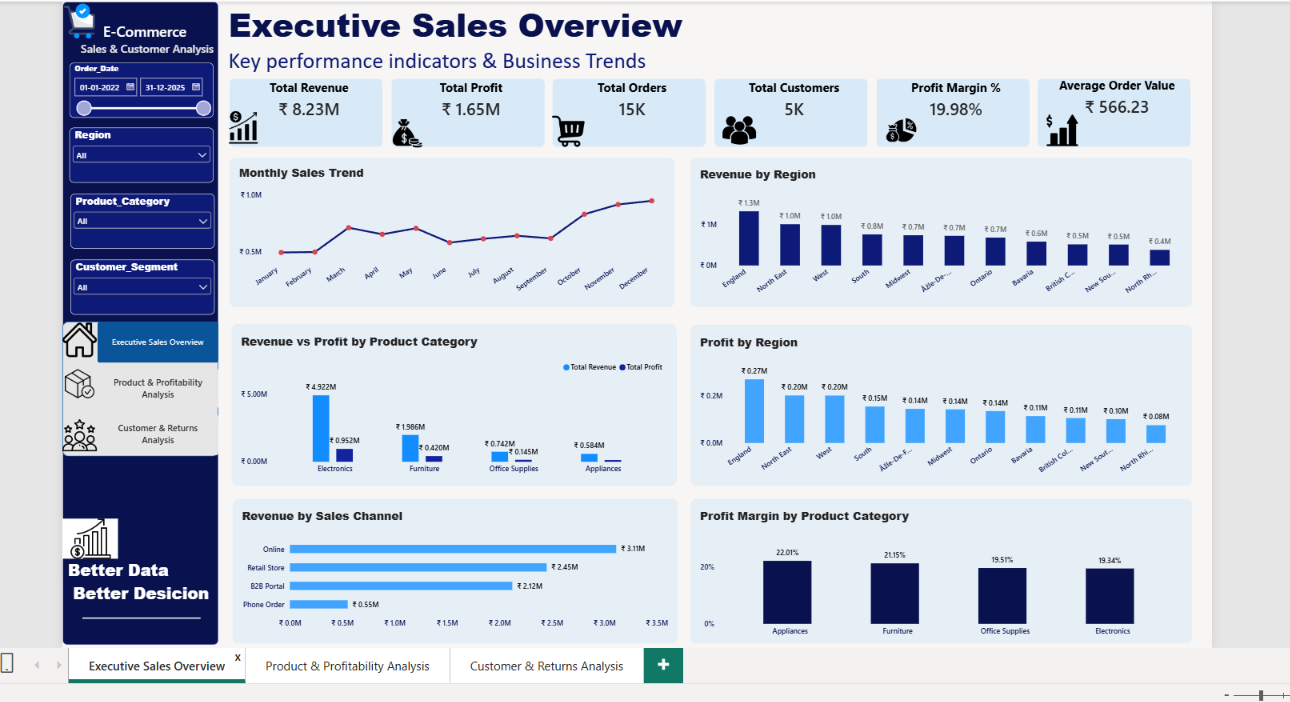

What the dashboard file says about the page in this screenshot:
{"tool":"powerbi","page":{"name":"Executive Sales Overview","canvas":[1920,1080],"ordinal":0},"visuals":[{"type":"shape","box":[0,0,260.6,1074],"z":0},{"type":"textbox","box":[277.9,0,769.8,127.6],"z":1000},{"type":"textbox","box":[0,32.6,260.6,81.4],"z":2000},{"type":"cardVisual","fields":{"Data":["Cleaned CSV.Total Revenue"]},"box":[278.7,128.5,256,114],"z":3000},{"type":"cardVisual","fields":{"Data":["Cleaned CSV.Total Profit"]},"box":[548.7,128.5,256,114],"z":4000},{"type":"cardVisual","fields":{"Data":["Cleaned CSV.Total Orders"]},"box":[818.7,128.5,256,114],"z":5000},{"type":"cardVisual","fields":{"Data":["Cleaned CSV.Total Customers"]},"box":[1088.7,128.5,256,114],"z":6000},{"type":"cardVisual","fields":{"Data":["Cleaned CSV.Profit Margin %"]},"box":[1358.7,128.5,256,114],"z":7000},{"type":"cardVisual","fields":{"Data":["Cleaned CSV.Average Order Value"]},"box":[1628.7,128.5,257,114],"z":8000},{"type":"image","box":[260.6,182.8,83.2,56.1],"z":9000},{"type":"image","box":[533.8,191.8,83.2,56.1],"z":10000},{"type":"image","box":[803.5,188.2,83,56],"z":11000},{"type":"image","box":[1089.4,186.4,83,56],"z":12000},{"type":"image","box":[1628.7,186.4,83,56],"z":13000},{"type":"image","box":[1359.1,186.4,83.2,56.1],"z":14000},{"type":"image","box":[0,1.8,57.9,61.5],"z":15000},{"type":"shape","box":[278.7,260.6,743.8,249.7],"z":16000},{"type":"lineChart","title":"Monthly Sales Trend","fields":{"Y":["Cleaned CSV.Total Revenue"],"Category":["Cleaned CSV.Order_Date.Variation.Date Hierarchy.Month"]},"box":[278.7,257,743.8,249.7],"z":17000},{"type":"shape","box":[1047.8,260.6,837.9,249.7],"z":18000},{"type":"clusteredColumnChart","title":" Revenue by Region","fields":{"Category":["Cleaned CSV.Region"],"Y":["Cleaned CSV.Total Revenue"]},"box":[1047.8,260.6,845.1,249.7],"z":19000},{"type":"shape","box":[282.3,537.5,743.8,271.4],"z":20000},{"type":"shape","box":[1047.8,539.3,837.9,269.6],"z":21000},{"type":"clusteredColumnChart","title":"Revenue vs Profit by Product Category","fields":{"Category":["Cleaned CSV.Product_Category"],"Y":["Cleaned CSV.Total Revenue","Cleaned CSV.Total Profit"]},"box":[282.3,539.3,740.2,269.6],"z":22000},{"type":"columnChart","title":" Profit by Region","fields":{"Y":["Cleaned CSV.Total Profit"],"Category":["Cleaned CSV.Region"]},"box":[1047.8,541.1,837.9,269.6],"z":23000},{"type":"shape","box":[284.1,830.6,743.8,242.5],"z":24000},{"type":"clusteredBarChart","title":"Revenue by Sales Channel","fields":{"Category":["Cleaned CSV.Sales_Channel"],"Y":["Cleaned CSV.Total Revenue"]},"box":[284.1,830.6,743.8,237.1],"z":25000},{"type":"shape","box":[1047.8,830.6,837.9,242.5],"z":26000},{"type":"columnChart","title":"Profit Margin by Product Category","fields":{"Category":["Cleaned CSV.Product_Category"],"Y":["Cleaned CSV.Profit Margin %"]},"box":[1047.8,830.6,837.9,249.7],"z":27000},{"type":"slicer","fields":{"Values":["Cleaned CSV.Order_Date"]},"box":[10.9,101.3,240.7,92.3],"z":28000},{"type":"slicer","fields":{"Values":["Cleaned CSV.Region"]},"box":[10.9,209.9,240.7,92.3],"z":29000},{"type":"slicer","fields":{"Values":["Cleaned CSV.Product_Category"]},"box":[12.7,320.3,240.7,92.3],"z":30000},{"type":"slicer","fields":{"Values":["Cleaned CSV.Customer_Segment"]},"box":[12.7,430.7,240.7,92.3],"z":31000},{"type":"shape","box":[0,534.1,260.5,225.2],"z":32000},{"type":"image","box":[0.7,536.7,57.7,57.7],"z":33000},{"type":"image","box":[0.7,611.1,57.7,54],"z":34000},{"type":"image","box":[0,690.4,57.7,68.9],"z":35000},{"type":"pageNavigator","box":[57.7,534.1,202.8,225.2],"z":36000},{"type":"textbox","box":[0,930.4,260.5,78.2],"z":37000},{"type":"shape","box":[0,863.4,93,67],"z":38000},{"type":"image","box":[0,863.4,94.9,67],"z":39000},{"type":"shape","box":[33.5,1004.8,197.2,48.4],"z":39001}]}

Visuals, with their boxes on the page's 1920x1080 design canvas (x1, y1, x2, y2). These are canvas units, not pixel positions in the 1290x702 screenshot, which may show the page scaled, cropped or inside an application window:
shape: (left=0, top=0, right=261, bottom=1074)
textbox: (left=278, top=0, right=1048, bottom=128)
textbox: (left=0, top=33, right=261, bottom=114)
cardVisual - Cleaned CSV.Total Revenue: (left=279, top=128, right=535, bottom=242)
cardVisual - Cleaned CSV.Total Profit: (left=549, top=128, right=805, bottom=242)
cardVisual - Cleaned CSV.Total Orders: (left=819, top=128, right=1075, bottom=242)
cardVisual - Cleaned CSV.Total Customers: (left=1089, top=128, right=1345, bottom=242)
cardVisual - Cleaned CSV.Profit Margin %: (left=1359, top=128, right=1615, bottom=242)
cardVisual - Cleaned CSV.Average Order Value: (left=1629, top=128, right=1886, bottom=242)
image: (left=261, top=183, right=344, bottom=239)
image: (left=534, top=192, right=617, bottom=248)
image: (left=804, top=188, right=886, bottom=244)
image: (left=1089, top=186, right=1172, bottom=242)
image: (left=1629, top=186, right=1712, bottom=242)
image: (left=1359, top=186, right=1442, bottom=242)
image: (left=0, top=2, right=58, bottom=63)
shape: (left=279, top=261, right=1022, bottom=510)
"Monthly Sales Trend" lineChart: (left=279, top=257, right=1022, bottom=507)
shape: (left=1048, top=261, right=1886, bottom=510)
" Revenue by Region" clusteredColumnChart: (left=1048, top=261, right=1893, bottom=510)
shape: (left=282, top=538, right=1026, bottom=809)
shape: (left=1048, top=539, right=1886, bottom=809)
"Revenue vs Profit by Product Category" clusteredColumnChart: (left=282, top=539, right=1022, bottom=809)
" Profit by Region" columnChart: (left=1048, top=541, right=1886, bottom=811)
shape: (left=284, top=831, right=1028, bottom=1073)
"Revenue by Sales Channel" clusteredBarChart: (left=284, top=831, right=1028, bottom=1068)
shape: (left=1048, top=831, right=1886, bottom=1073)
"Profit Margin by Product Category" columnChart: (left=1048, top=831, right=1886, bottom=1080)
slicer - Cleaned CSV.Order_Date: (left=11, top=101, right=252, bottom=194)
slicer - Cleaned CSV.Region: (left=11, top=210, right=252, bottom=302)
slicer - Cleaned CSV.Product_Category: (left=13, top=320, right=253, bottom=413)
slicer - Cleaned CSV.Customer_Segment: (left=13, top=431, right=253, bottom=523)
shape: (left=0, top=534, right=260, bottom=759)
image: (left=1, top=537, right=58, bottom=594)
image: (left=1, top=611, right=58, bottom=665)
image: (left=0, top=690, right=58, bottom=759)
pageNavigator: (left=58, top=534, right=260, bottom=759)
textbox: (left=0, top=930, right=260, bottom=1009)
shape: (left=0, top=863, right=93, bottom=930)
image: (left=0, top=863, right=95, bottom=930)
shape: (left=34, top=1005, right=231, bottom=1053)
